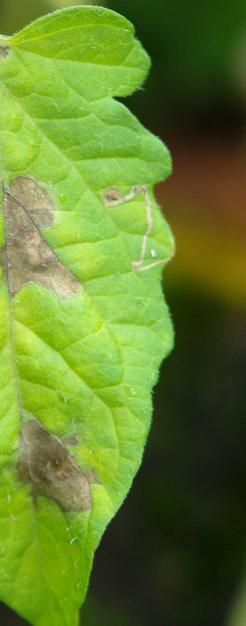Tomato leaf late blight: (0, 0, 188, 626)
